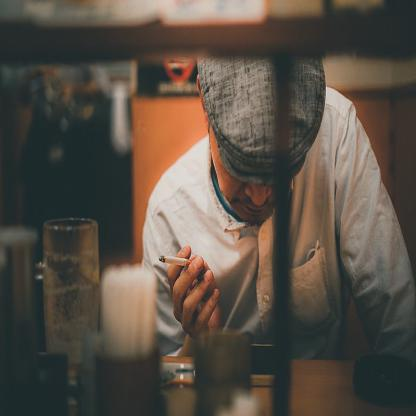smoking: (159, 255, 197, 266)
